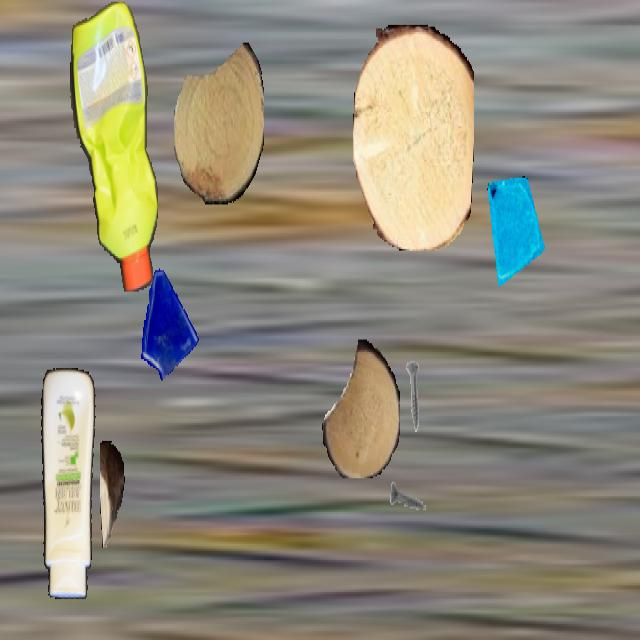glass: (135, 263, 201, 381), (484, 176, 548, 290)
metal: (393, 359, 435, 434), (389, 459, 431, 533), (0, 263, 1, 370)
plastic: (69, 2, 159, 290), (34, 368, 98, 599)
wood: (353, 25, 473, 249), (174, 41, 264, 204), (322, 340, 400, 478), (100, 441, 124, 547)
